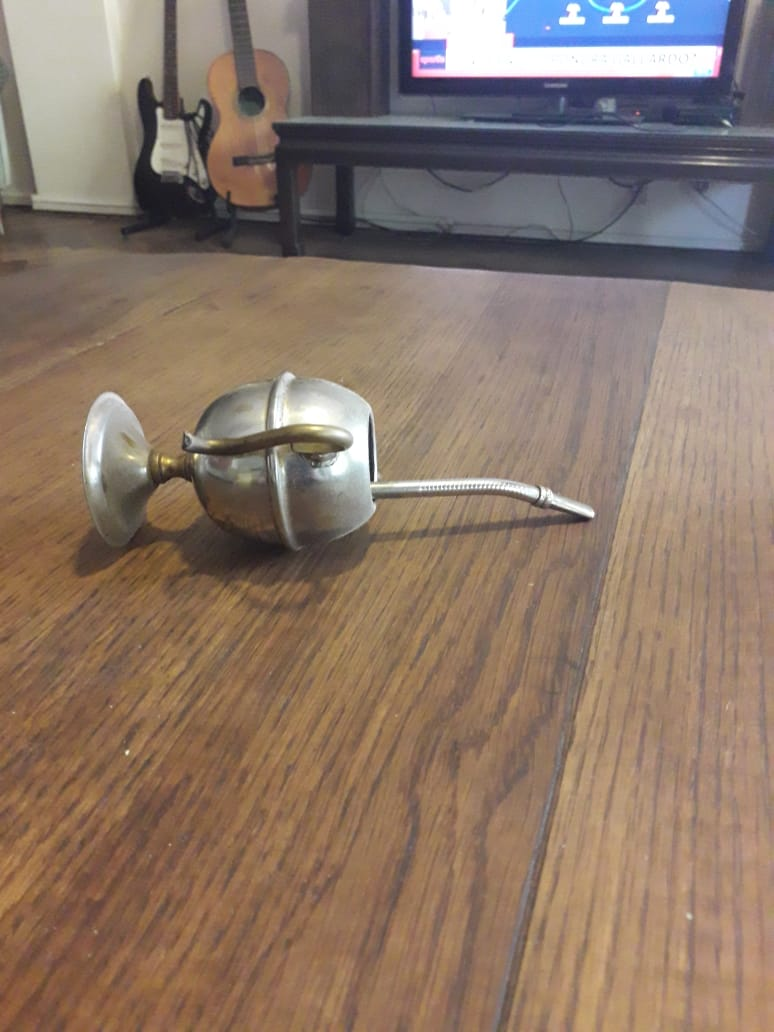mate: (82, 368, 600, 547)
metal: (80, 366, 598, 545)
